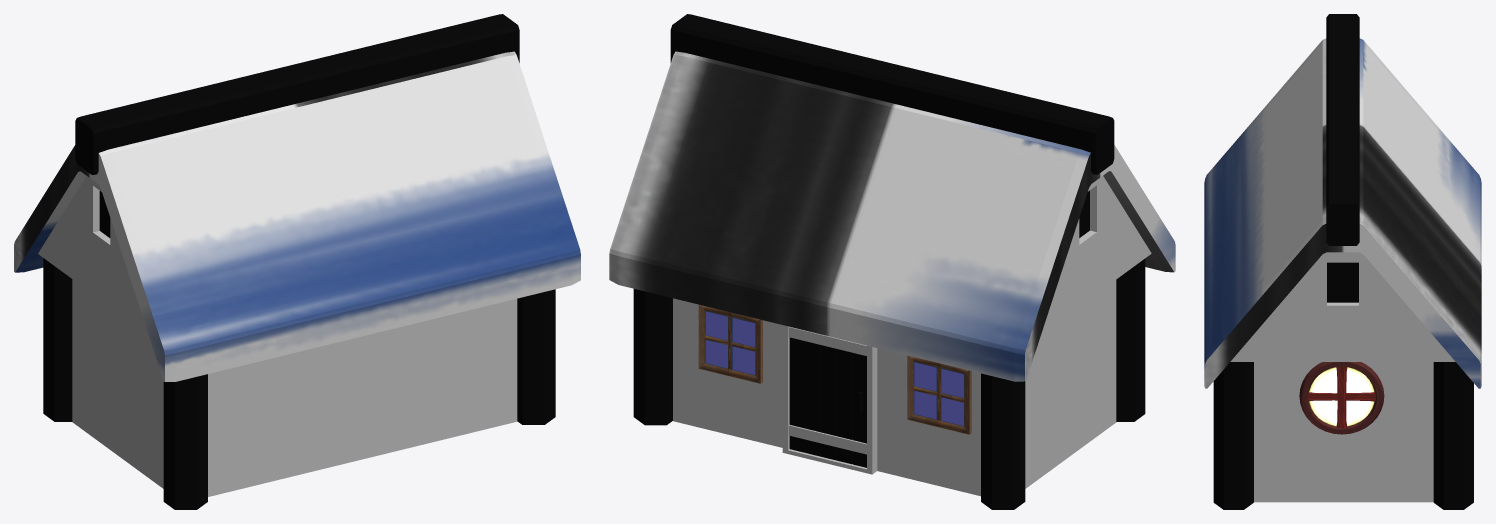
Rendered from house.fbx.
3 views of the same model, side by side, from view 1: azimuth 30°, elevation 25°; view 2: azimuth 150°, elevation 25°; view 3: azimuth 270°, elevation 25° (orthographic). The views are drawn at different scales.
Parts seen in each view (by area): view 1: building_10__20_; view 2: building_10__20_, pCube9_2_1, pCube9_2, pCube9_1 (×2), pCube9_1_1, pCube9; view 3: building_10__20_, Prop_Modular_Window__1_.
Boxes of the visible parts, x1,y1,x2,y2 form: building_10__20_: (14,14,580,509); building_10__20_: (609,14,1175,509); pCube9_2_1: (705,311,755,374); pCube9_2: (914,362,963,425); pCube9_1 (×2): (699,305,971,434); pCube9_1_1: (698,304,762,383); pCube9: (908,356,968,434); building_10__20_: (1204,14,1481,509); Prop_Modular_Window__1_: (1299,362,1384,434).
Size of the model in its own units: 410 by 318 by 253.
